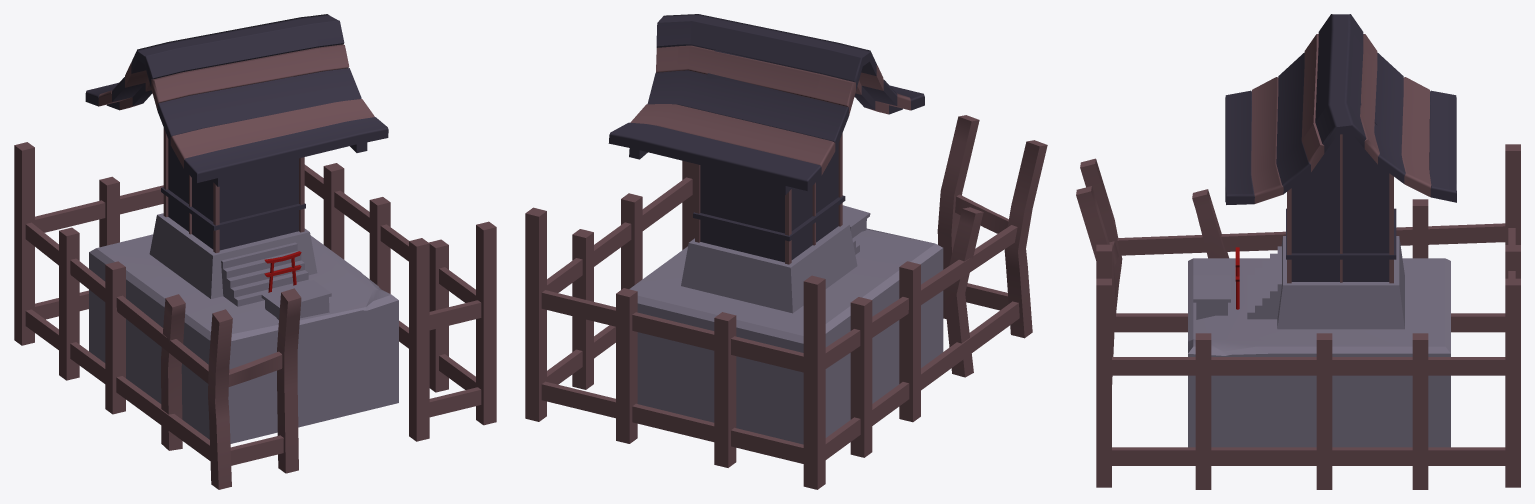
Rendered from Temple_02.fbx.
3 renders of one model, left to right at view 1: azimuth 30°, elevation 25°; view 2: azimuth 150°, elevation 25°; view 3: azimuth 270°, elevation 25°, orthographic. The views are drawn at different scales.
Visible parts, largest first — view 1: Temple_02; view 2: Temple_02; view 3: Temple_02.
Boxes of the visible parts, <box> form: Temple_02: <box>14,14,496,489</box>; Temple_02: <box>525,14,1047,489</box>; Temple_02: <box>1076,14,1520,489</box>.
Bounding box in the file's own units: 230 × 265 × 300.
